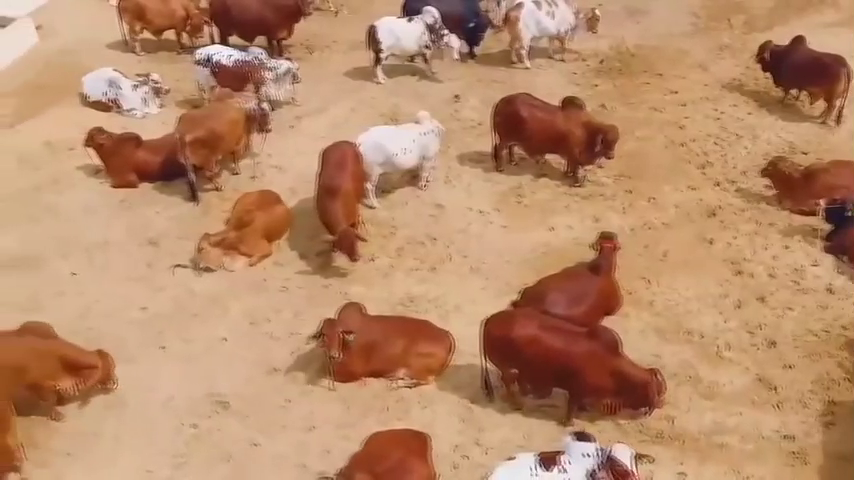bo: (468, 299, 669, 427), (480, 79, 626, 183), (4, 314, 119, 442), (502, 228, 648, 325), (313, 297, 459, 392), (170, 83, 279, 194), (468, 422, 665, 477), (351, 106, 446, 216), (186, 183, 290, 281), (755, 26, 850, 128), (190, 35, 306, 110), (313, 131, 372, 272), (81, 116, 185, 192), (359, 5, 460, 83), (204, 2, 329, 62), (499, 2, 608, 69), (67, 58, 171, 128), (109, 1, 216, 69), (321, 426, 451, 480), (755, 148, 849, 215), (395, 3, 495, 59), (802, 194, 854, 272)
